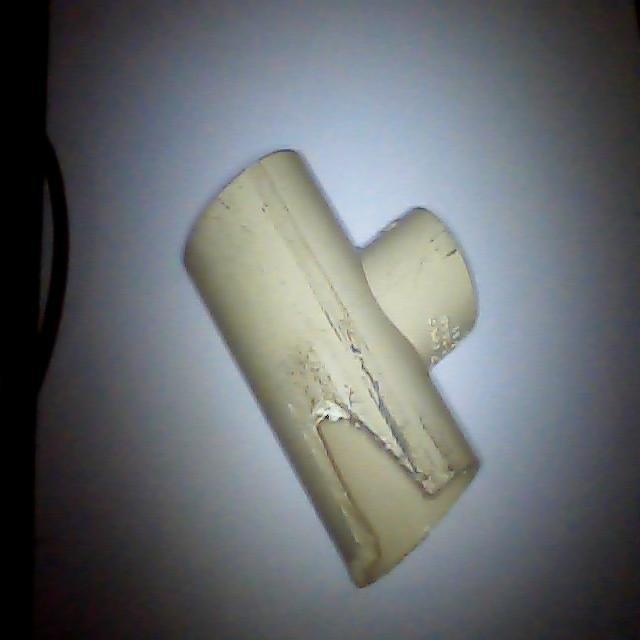Defective: (314, 264, 422, 487), (298, 391, 437, 553)
T Joint: (182, 149, 482, 591)
